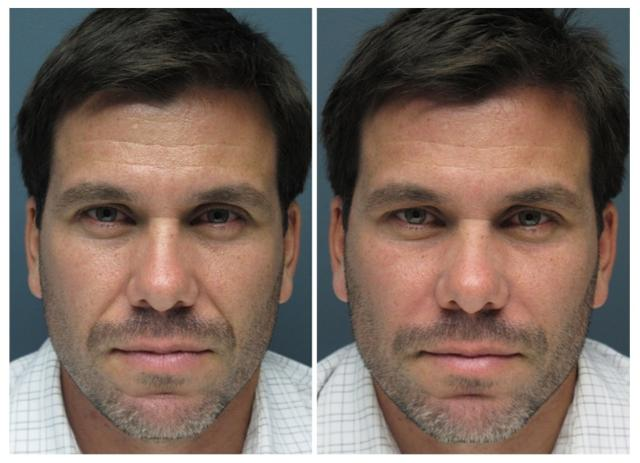forehead: (422, 130, 494, 156), (100, 153, 154, 174)
frown_line: (144, 207, 176, 223)
gummy_smile: (91, 278, 127, 320), (202, 284, 230, 326)
